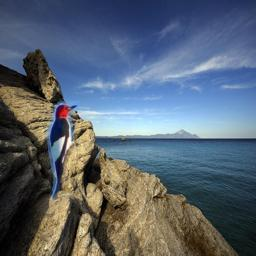Woodpecker: (43, 97, 81, 200)
